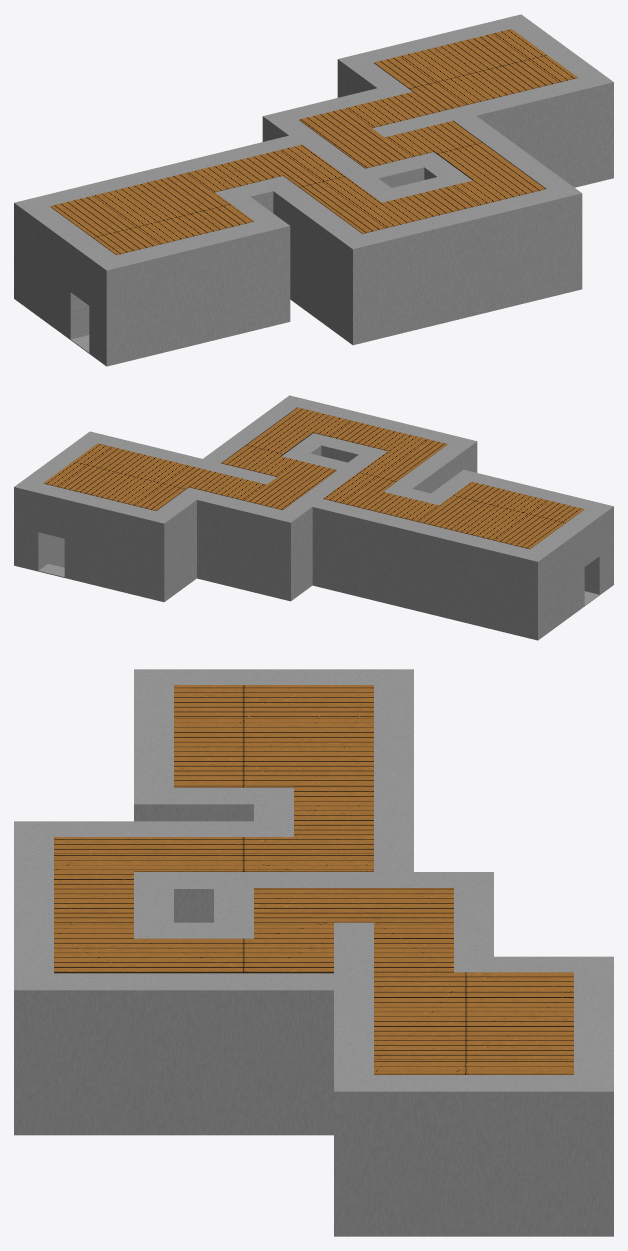
Rendered from nivel 1_def_def.fbx.
3 views of the same model, one above another, from view 1: azimuth 30°, elevation 25°; view 2: azimuth 150°, elevation 25°; view 3: azimuth 270°, elevation 25° (orthographic). The views are drawn at different scales.
Parts seen in each view (by area): view 1: Cube.001, Plane.001; view 2: Cube.001, Plane.001, Cube.002; view 3: Cube.001, Plane.001.
Part boxes in pixels (x1,y1,x2,y2): Cube.001: [14, 14, 613, 366]; Plane.001: [50, 29, 577, 255]; Cube.001: [14, 395, 613, 640]; Plane.001: [43, 407, 584, 549]; Cube.002: [48, 534, 64, 567]; Cube.001: [14, 669, 613, 1236]; Plane.001: [54, 685, 573, 1074].
Size of the model in its own units: 2500 by 415 by 1500.
